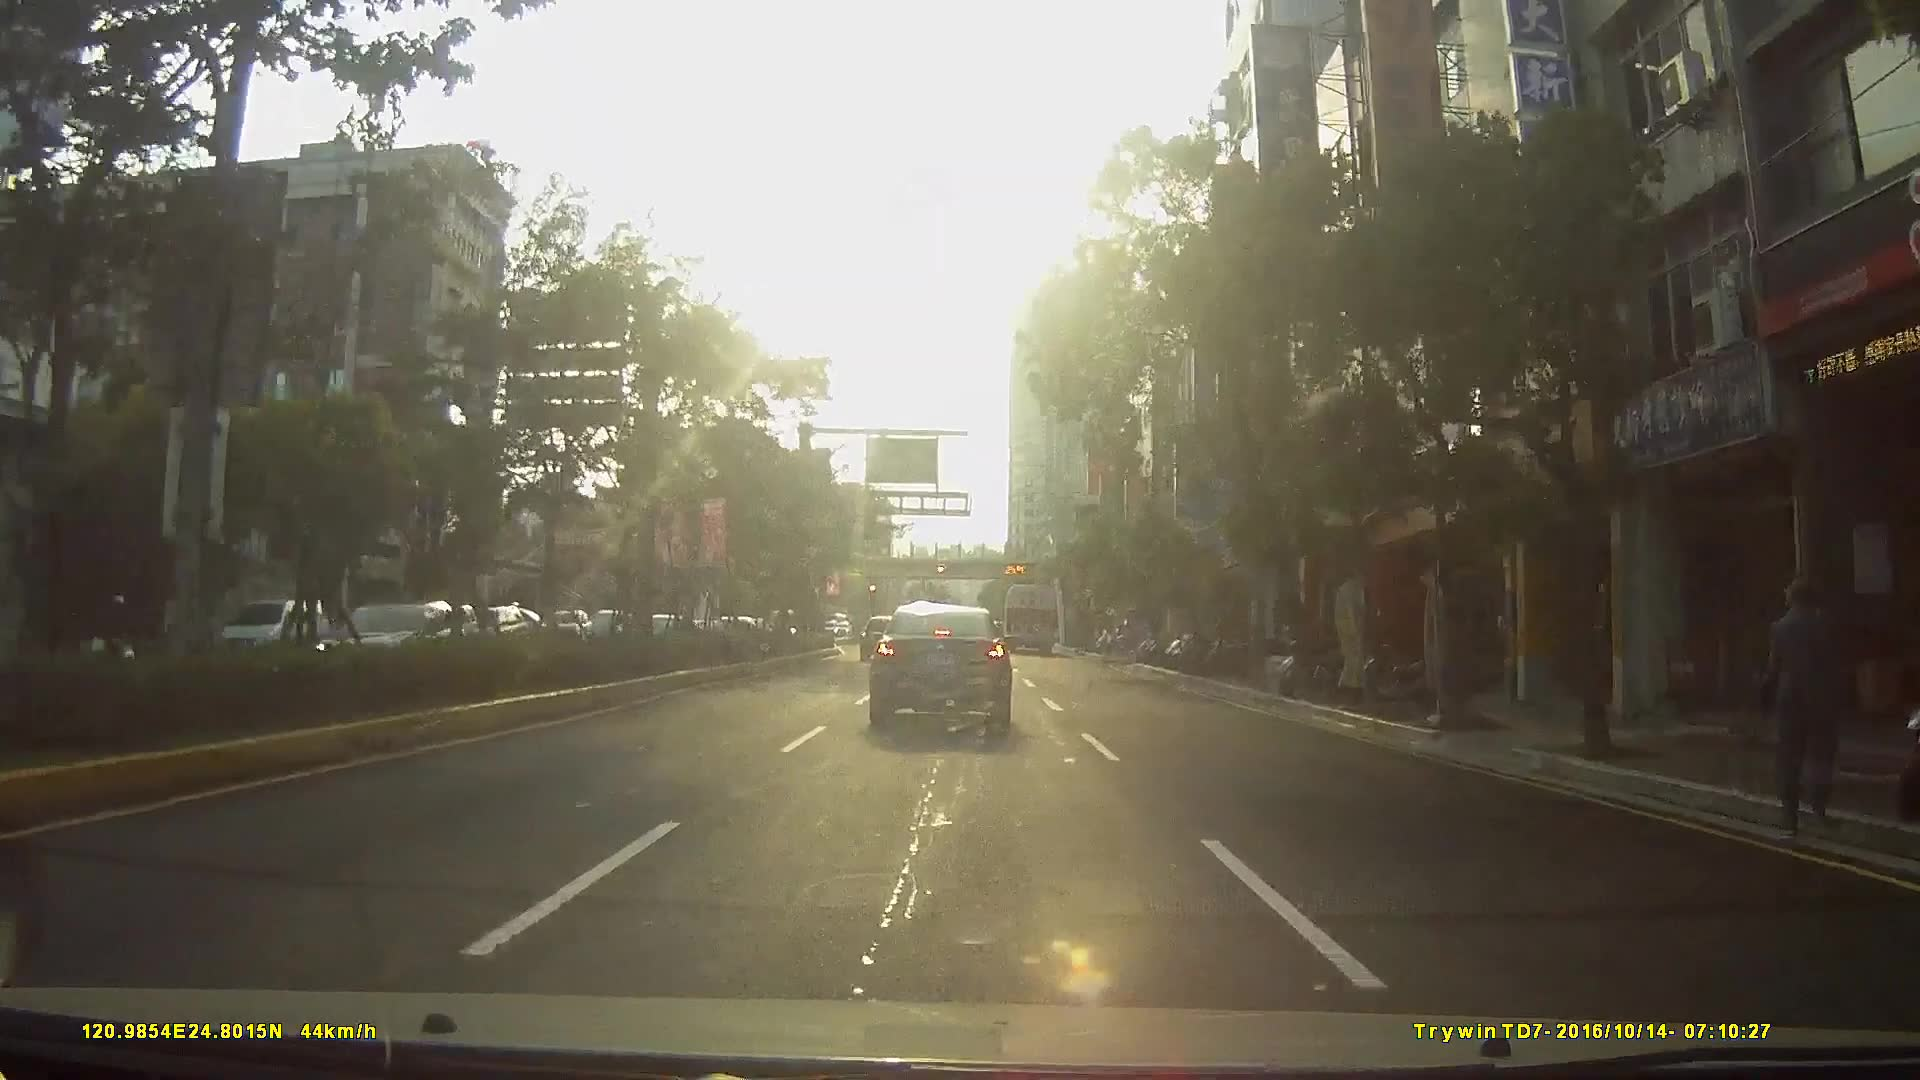pedestrian: (1759, 562, 1853, 844)
vehicle: (865, 598, 1014, 726), (313, 598, 481, 682), (204, 597, 323, 667), (999, 580, 1059, 650), (466, 602, 526, 647), (859, 614, 899, 660), (539, 608, 591, 643)
